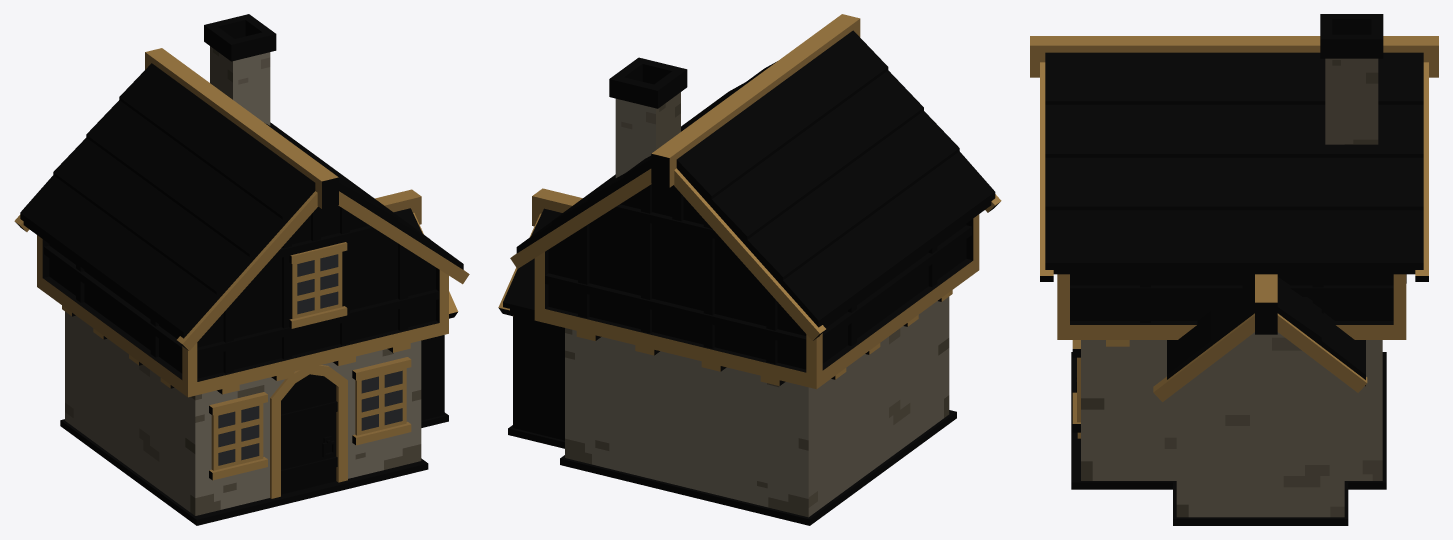
The model's file is House_Blue.gltf.
3 renders of one model, left to right at view 1: azimuth 30°, elevation 25°; view 2: azimuth 150°, elevation 25°; view 3: azimuth 270°, elevation 25°, orthographic. The views are drawn at different scales.
Visible parts, largest first — view 1: SF_Bld_House_Blue_01; view 2: SF_Bld_House_Blue_01; view 3: SF_Bld_House_Blue_01.
Boxes of the visible parts, left/top/right/bottom form: SF_Bld_House_Blue_01: left=14, top=14, right=469, bottom=525; SF_Bld_House_Blue_01: left=498, top=14, right=1001, bottom=525; SF_Bld_House_Blue_01: left=1030, top=14, right=1438, bottom=525.
Size of the model in its own units: 0.1151 by 0.1217 by 0.1061.
1 material, 1 textured.
